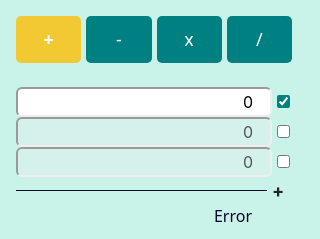
<Button /> › should change operator when clicked
The width and height of the screenshot is (320, 239).
What coordinates should you click on to do the following:
click the button with test id "button-subtract"
I would click on:
 (119, 40)
Its box is [86,16,152,63].
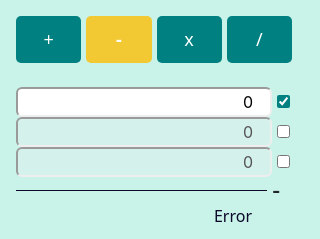
Now the 2nd text "-" is shown, box [272,180,280,201]
